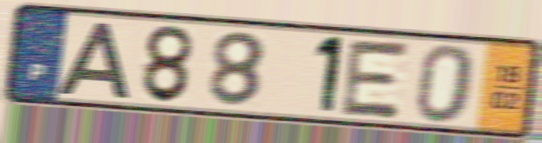0: (412, 42, 478, 126)
1: (308, 33, 347, 119)
8: (206, 30, 268, 109), (140, 23, 196, 105)
A: (53, 20, 132, 100)
E: (336, 36, 414, 122)
